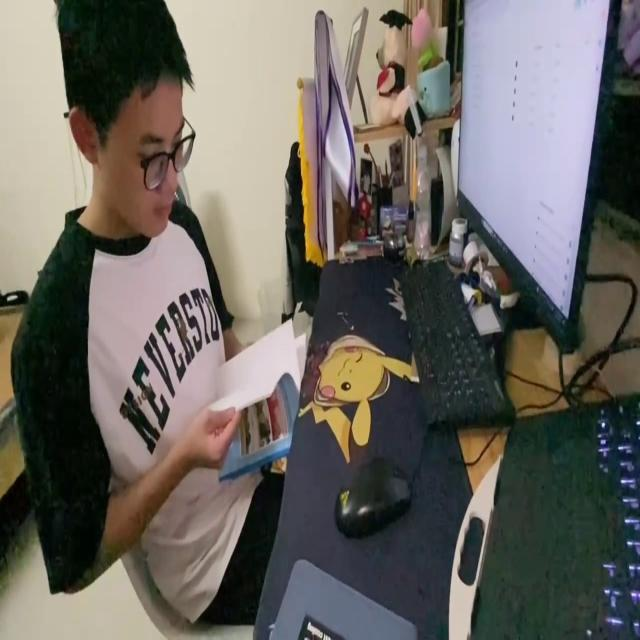book: (456, 0, 625, 357), (199, 315, 309, 482)
laptop: (455, 393, 640, 640)
student: (12, 0, 288, 626)
